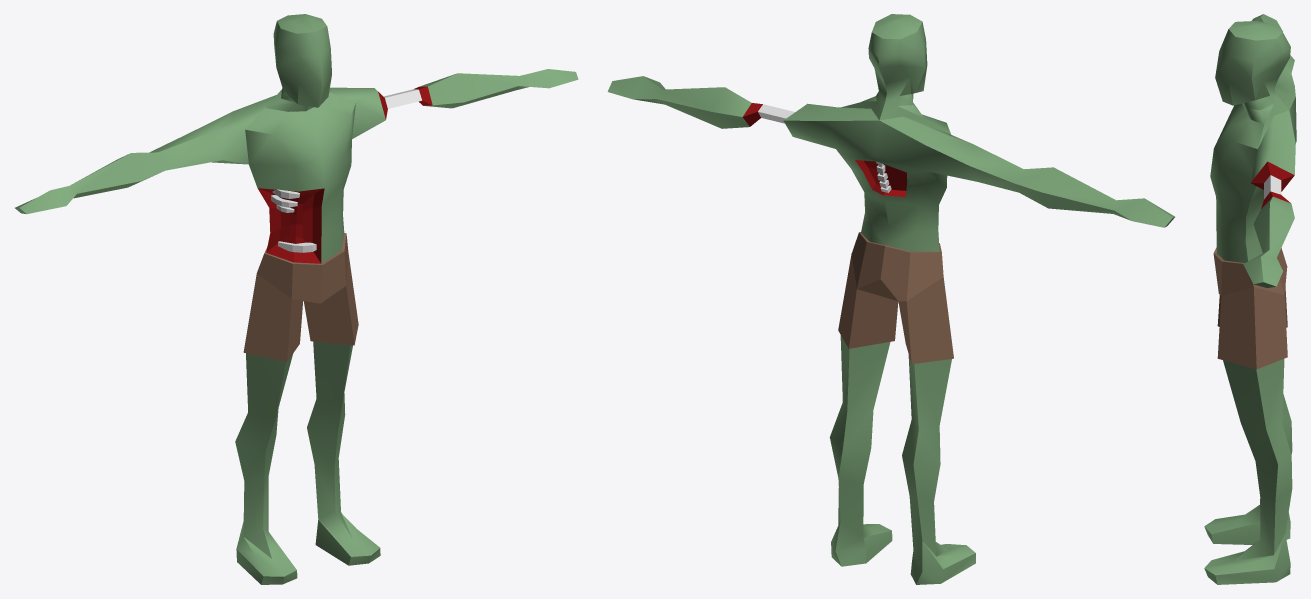
The model's file is zombie_for_game_unity..glb.
3 views of the same model, side by side, from view 1: azimuth 30°, elevation 25°; view 2: azimuth 150°, elevation 25°; view 3: azimuth 270°, elevation 25° (orthographic). The views are drawn at different scales.
Visible parts, largest first — view 1: BASE_Low Poly Man, BASE_Low Poly Man.001; view 2: BASE_Low Poly Man; view 3: BASE_Low Poly Man.
Part boxes in pixels (x1=…): BASE_Low Poly Man: x1=15, y1=14, x2=578, y2=584; BASE_Low Poly Man.001: x1=271, y1=189, x2=316, y2=252; BASE_Low Poly Man: x1=607, y1=14, x2=1174, y2=584; BASE_Low Poly Man: x1=1204, y1=14, x2=1296, y2=584.
Size of the model in its own units: 4 by 3.7 by 0.5827.
